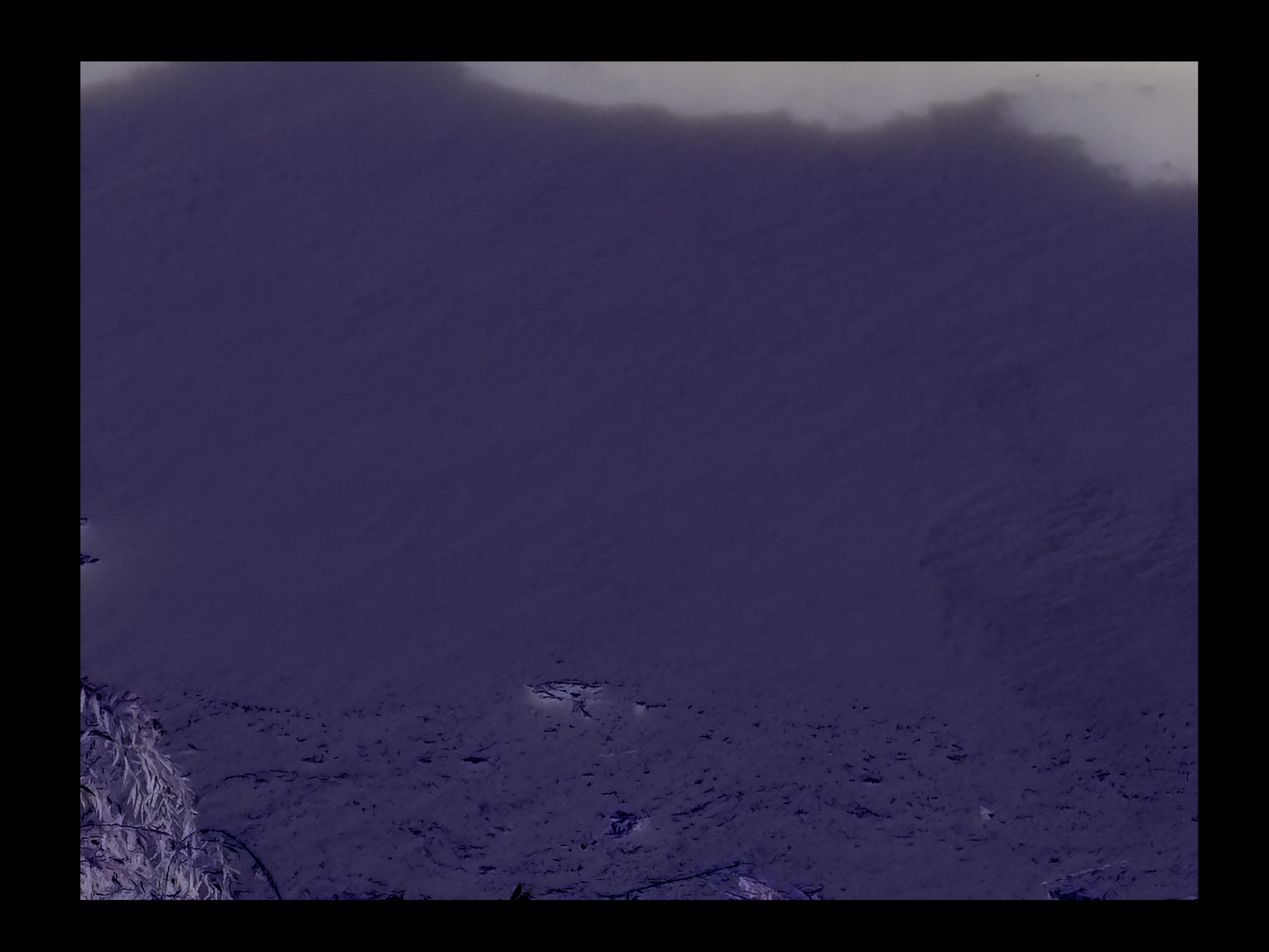Other: (531, 681, 595, 704), (605, 808, 651, 838)
